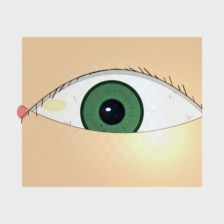pinguecula_lesion: (30, 85, 79, 125)
